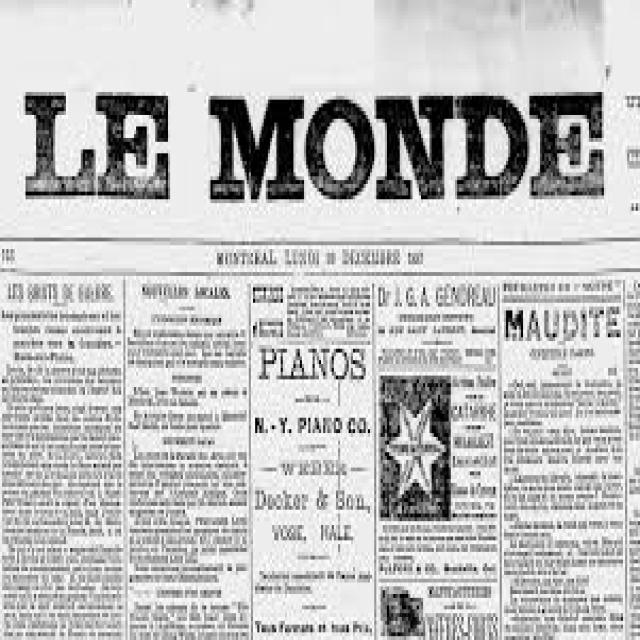paper: (2, 27, 640, 640)
